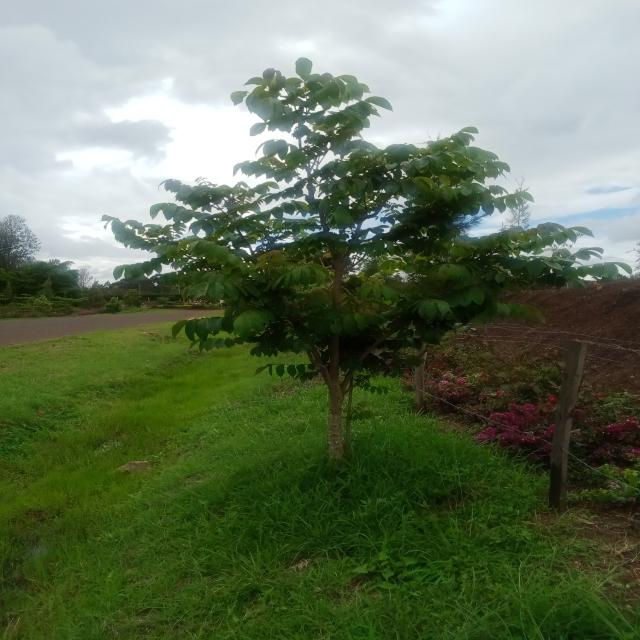Polyscias Kikuyensis: (104, 49, 636, 468)
